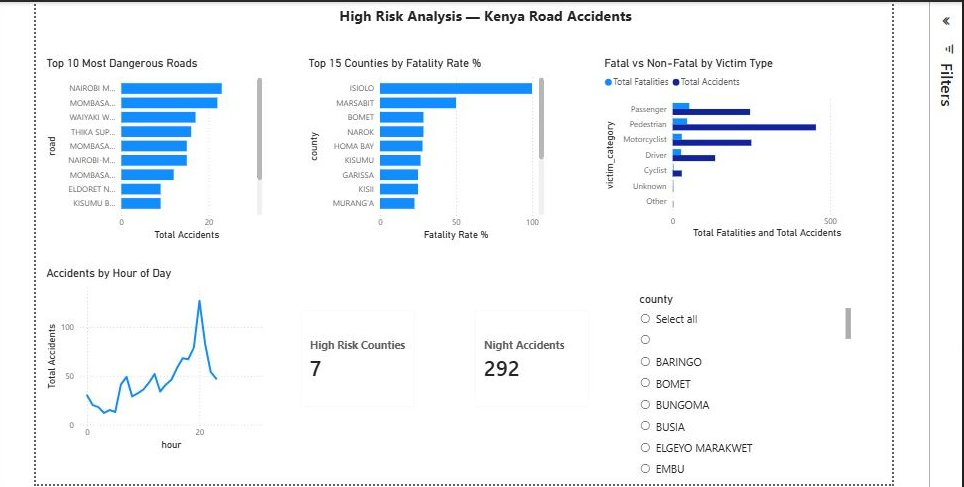

The dashboard page shown, as its layout file describes it:
{"tool":"powerbi","page":{"name":"High Risk Analysis","canvas":[1280,720],"ordinal":2},"visuals":[{"type":"clusteredBarChart","title":"Top 10 Most Dangerous Roads","fields":{"Category":["accidents_clean.road"],"Y":["accidents_clean.Total Accidents"]},"box":[10.5,80,332.6,280],"z":0},{"type":"clusteredBarChart","title":"Top 15 Counties by Fatality Rate %","fields":{"Category":["accidents_clean.county"],"Y":["accidents_clean.Fatality Rate %"]},"box":[402.1,80,362.1,280],"z":1000},{"type":"clusteredBarChart","title":"Fatal vs Non-Fatal by Victim Type","fields":{"Category":["accidents_clean.victim_category"],"Y":["accidents_clean.Total Fatalities","accidents_clean.Total Accidents"]},"box":[844.2,80,404.2,277.9],"z":2000},{"type":"lineChart","title":"Accidents by Hour of Day","fields":{"Category":["accidents_clean.hour"],"Y":["accidents_clean.Total Accidents"]},"box":[10.5,393.7,332.6,280],"z":3000},{"type":"cardVisual","fields":{"Data":["accidents_clean.High Risk Counties"]},"box":[378.9,444.2,204.2,178.9],"z":4000},{"type":"cardVisual","fields":{"Data":["accidents_clean.Night Accidents"]},"box":[640,444.2,204.2,178.9],"z":5000},{"type":"listSlicer","fields":{"Values":["accidents_clean.county"]},"box":[896.8,433.7,326.3,286.3],"z":6000},{"type":"textbox","box":[379.4,0,584.1,44.8],"z":7000}]}

Visuals, with their boxes on the page's 1280x720 design canvas (x1, y1, x2, y2). These are canvas units, not pixel positions in the 964x487 screenshot, which may show the page scaled, cropped or inside an application window:
"Top 10 Most Dangerous Roads" clusteredBarChart: 10:80:343:360
"Top 15 Counties by Fatality Rate %" clusteredBarChart: 402:80:764:360
"Fatal vs Non-Fatal by Victim Type" clusteredBarChart: 844:80:1248:358
"Accidents by Hour of Day" lineChart: 10:394:343:674
cardVisual - accidents_clean.High Risk Counties: 379:444:583:623
cardVisual - accidents_clean.Night Accidents: 640:444:844:623
listSlicer - accidents_clean.county: 897:434:1223:720
textbox: 379:0:964:45
